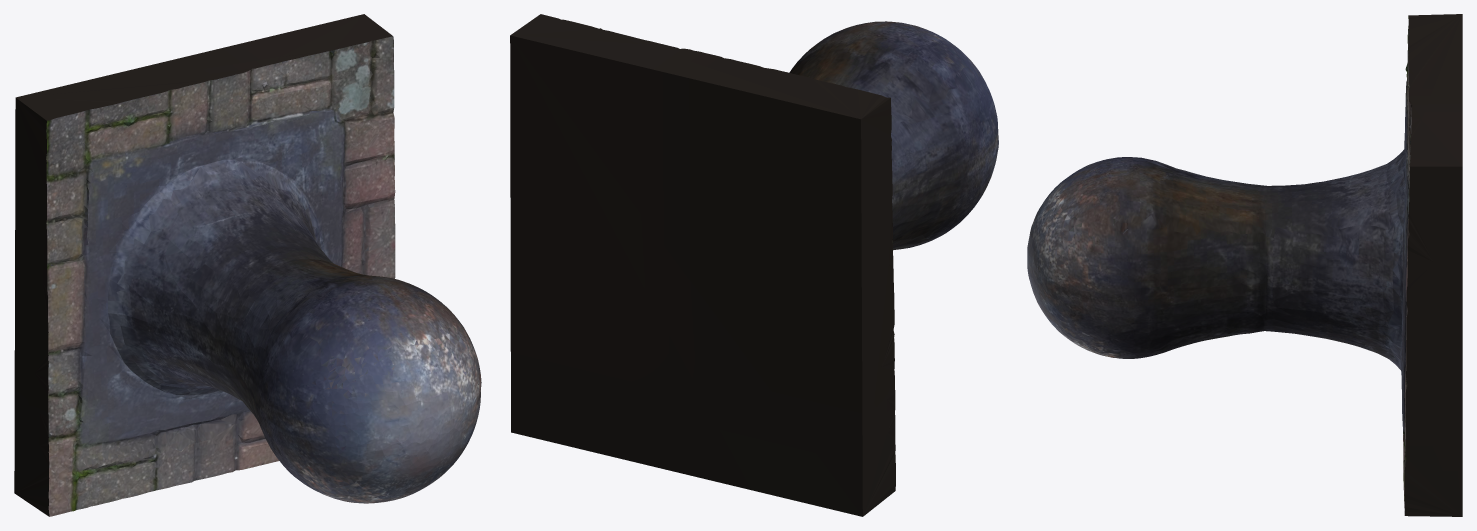
File: SurreyQuaysMooringFeature2_01_decimated.obj
3 views of the same model, side by side, from view 1: azimuth 30°, elevation 25°; view 2: azimuth 150°, elevation 25°; view 3: azimuth 270°, elevation 25° (orthographic). The views are drawn at different scales.
Parts seen in each view (by area): view 1: SurreyQuaysMooringFeature2_01; view 2: SurreyQuaysMooringFeature2_01; view 3: SurreyQuaysMooringFeature2_01.
Part boxes in pixels (x1,y1,x2,y2): SurreyQuaysMooringFeature2_01: (14, 14, 481, 516); SurreyQuaysMooringFeature2_01: (510, 14, 998, 516); SurreyQuaysMooringFeature2_01: (1027, 14, 1462, 516).
Size of the model in its own units: 8.29 by 8.96 by 10.05.
